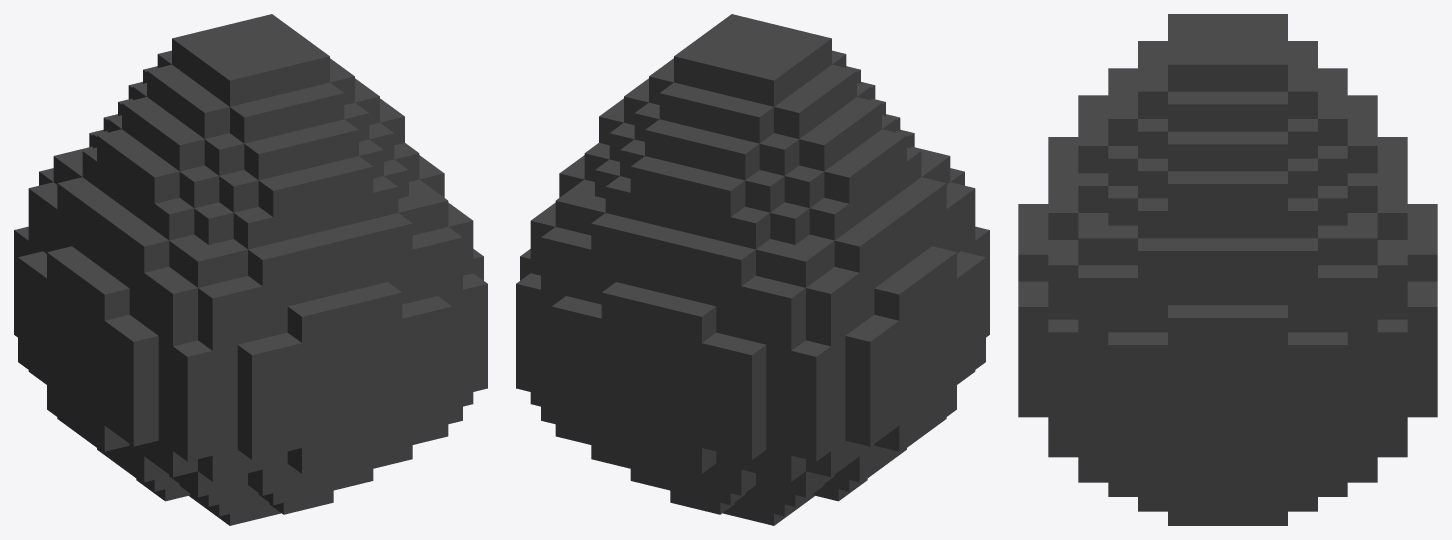
Rendered from egg.obj.
The picture shows the model from 3 angles, left to right: view 1: azimuth 30°, elevation 25°; view 2: azimuth 150°, elevation 25°; view 3: azimuth 270°, elevation 25°; orthographic projection. The views are drawn at different scales.
Size of the model in its own units: 1.4 by 1.7 by 1.4.
1 material, 1 textured.
